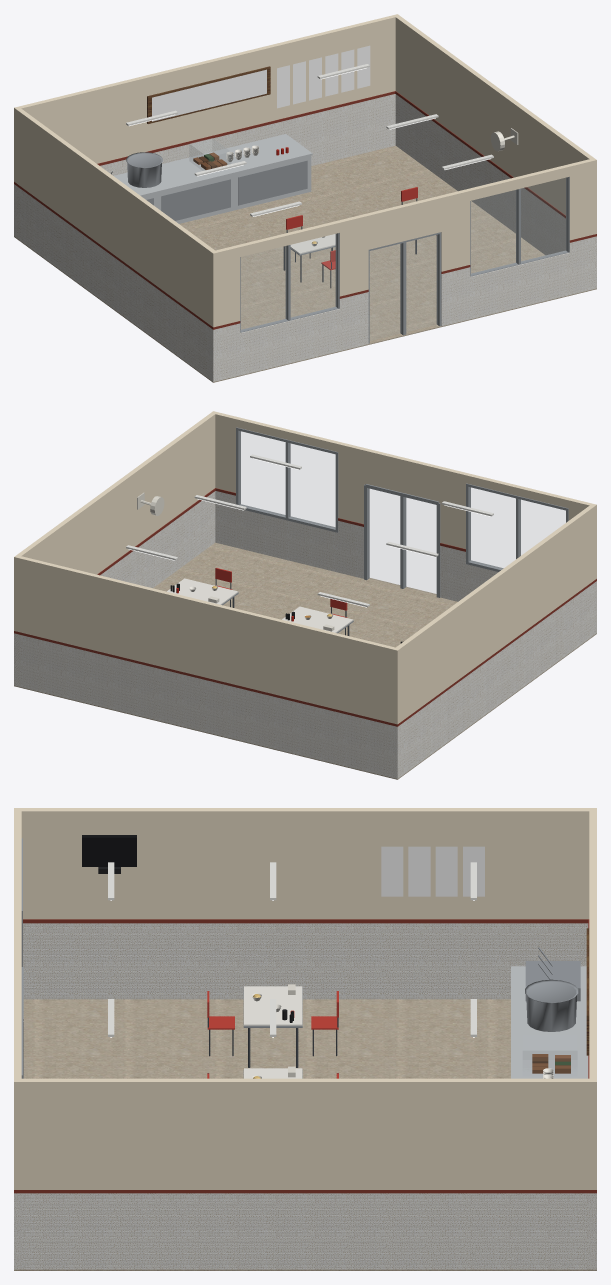
The model's file is noodle_interior.glb.
3 renders of one model, top to bottom at view 1: azimuth 30°, elevation 25°; view 2: azimuth 150°, elevation 25°; view 3: azimuth 270°, elevation 25°, orthographic. The views are drawn at different scales.
Parts seen in each view (by area): view 1: ndl_floor, WALL_back_paint, WALL_front_glass, WALL_left_paint, WALL_front_tile, WALL_front_paint, WALL_right_paint, WALL_left_tile, WALL_right_tile, WALL_back_tile, ndl_counter, ndl_steel_dark (+16 smaller); view 2: WALL_back_paint, WALL_back_tile, WALL_front_glass, WALL_left_paint, ndl_floor, WALL_right_paint, WALL_front_paint, WALL_left_tile, WALL_front_tile, WALL_front_frame, WALL_right_tile, ndl_tables (+3 smaller); view 3: WALL_right_paint, WALL_left_paint, WALL_right_tile, WALL_left_tile, ndl_floor, ndl_counter, ndl_steel_dark, WALL_back_paint, WALL_front_paint, WALL_left_trim, ndl_tables, WALL_right_trim (+11 smaller).
Boxes of the visible parts, x1,y1,x2,y2 form: ndl_floor: (14, 145, 596, 382); WALL_back_paint: (14, 14, 399, 182); WALL_front_glass: (241, 178, 566, 340); WALL_left_paint: (14, 108, 217, 327); WALL_front_tile: (210, 236, 596, 381); WALL_front_paint: (210, 158, 596, 327); WALL_right_paint: (394, 14, 596, 215); WALL_left_tile: (14, 184, 217, 381); WALL_right_tile: (395, 94, 596, 271); WALL_back_tile: (14, 94, 395, 236); ndl_counter: (114, 134, 312, 223); ndl_steel_dark: (111, 152, 307, 220); WALL_back_paint: (14, 555, 400, 724); WALL_back_tile: (14, 633, 400, 778); WALL_front_glass: (240, 432, 565, 594); WALL_left_paint: (393, 505, 596, 723); ndl_floor: (14, 542, 596, 779); WALL_right_paint: (14, 411, 216, 631); WALL_front_paint: (211, 411, 596, 575); WALL_left_tile: (393, 581, 596, 778); WALL_front_tile: (215, 491, 596, 632); WALL_front_frame: (236, 427, 568, 597); WALL_right_tile: (14, 491, 215, 686); ndl_tables: (167, 578, 353, 632); WALL_right_paint: (14, 1078, 596, 1189); WALL_left_paint: (14, 808, 596, 919); WALL_right_tile: (14, 1193, 596, 1269); WALL_left_tile: (23, 923, 588, 999); ndl_floor: (14, 999, 596, 1270); ndl_counter: (511, 966, 588, 1078); ndl_steel_dark: (525, 947, 580, 1031); WALL_back_paint: (589, 808, 596, 1189); WALL_front_paint: (14, 808, 21, 1189); WALL_left_trim: (23, 919, 588, 923); ndl_tables: (244, 986, 302, 1078); WALL_right_trim: (14, 1190, 596, 1193).
Size of the model in its own units: 10 by 3.22 by 9.
Materials: 25 (3 with a texture image).
